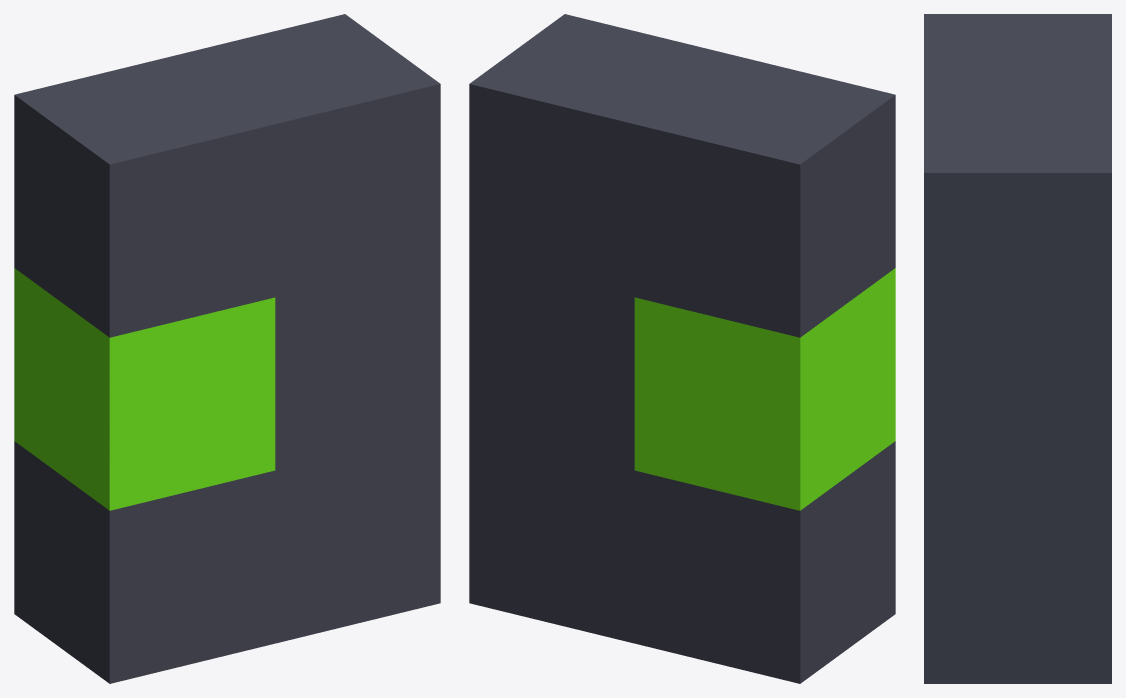
Rendered from Electronics-2.fbx.
3 views of the same model, side by side, from view 1: azimuth 30°, elevation 25°; view 2: azimuth 150°, elevation 25°; view 3: azimuth 270°, elevation 25° (orthographic).
Visible parts, largest first — view 1: Electronics_2; view 2: Electronics_2; view 3: Electronics_2.
Part boxes in pixels (x1=…): Electronics_2: x1=14, y1=14, x2=440, y2=683; Electronics_2: x1=469, y1=14, x2=895, y2=683; Electronics_2: x1=924, y1=14, x2=1111, y2=683.
Bounding box in the file's own units: 20 × 30 × 10.
Materials: 2 (2 with a texture image).
